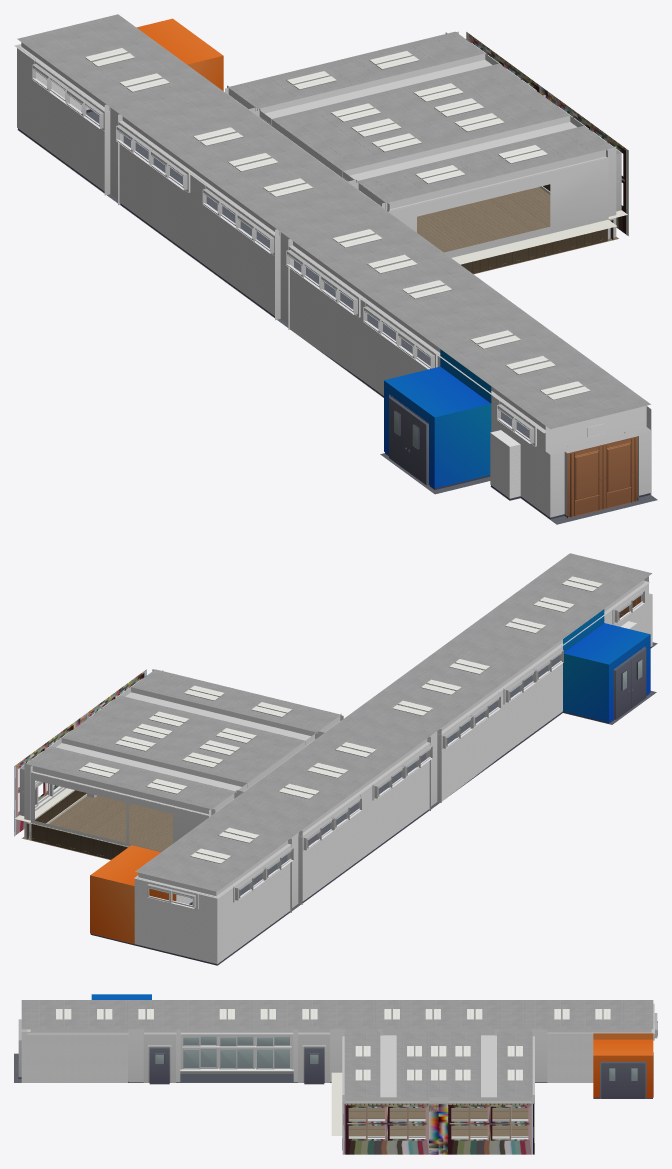
File: CR_Room.FBX
3 renders of one model, top to bottom at view 1: azimuth 30°, elevation 25°; view 2: azimuth 150°, elevation 25°; view 3: azimuth 270°, elevation 25°, orthographic. The views are drawn at different scales.
Visible parts, largest first — view 1: CR_RoomCeiling_001, CR_RoomGroup_001, CR_RoomWall_001, CR_RoomLight_white_001, CR_RoomFloor_001, CR_RoomFloor_002, CR_RoomLouver_001, DellWin, CR_RoomWindowA_001; view 2: CR_RoomCeiling_001, CR_RoomGroup_001, CR_RoomWall_001, CR_RoomLight_white_001, CR_RoomFloor_001, CR_RoomLouver_001, CR_RoomFloor_002, DellWin, CR_RoomWindowA_001; view 3: CR_RoomCeiling_001, CR_RoomGroup_001, CR_RoomWall_001, DellWin, CR_RoomLight_white_001, CR_RoomFloor_001, CR_RoomFloor_002.
Boxes of the visible parts, <box> form: CR_RoomCeiling_001: <box>17,14,650,429</box>; CR_RoomGroup_001: <box>14,18,651,519</box>; CR_RoomWall_001: <box>17,45,651,517</box>; CR_RoomLight_white_001: <box>85,48,603,437</box>; CR_RoomFloor_001: <box>417,187,618,274</box>; CR_RoomFloor_002: <box>17,111,657,524</box>; CR_RoomLouver_001: <box>461,184,613,273</box>; DellWin: <box>466,32,628,235</box>; CR_RoomWindowA_001: <box>33,67,530,430</box>; CR_RoomCeiling_001: <box>26,553,651,891</box>; CR_RoomGroup_001: <box>15,576,651,965</box>; CR_RoomWall_001: <box>134,583,652,964</box>; CR_RoomLight_white_001: <box>79,576,602,863</box>; CR_RoomFloor_001: <box>22,795,172,859</box>; CR_RoomLouver_001: <box>26,790,127,859</box>; CR_RoomFloor_002: <box>90,642,657,965</box>; DellWin: <box>14,669,146,836</box>; CR_RoomWindowA_001: <box>35,593,642,898</box>; CR_RoomCeiling_001: <box>21,1000,653,1097</box>; CR_RoomGroup_001: <box>18,994,657,1139</box>; CR_RoomWall_001: <box>21,1032,654,1082</box>; DellWin: <box>342,1103,534,1154</box>; CR_RoomLight_white_001: <box>27,1009,610,1080</box>; CR_RoomFloor_001: <box>349,1108,528,1136</box>; CR_RoomFloor_002: <box>14,1053,652,1098</box>.
Size of the model in its own units: 1416 by 302 by 3254.
Materials: 6 (6 with a texture image).
